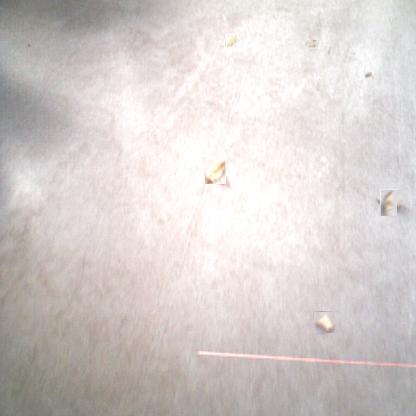dirty: (204, 159, 226, 184), (313, 311, 335, 333), (377, 192, 400, 213), (225, 34, 237, 47), (306, 39, 317, 49), (363, 71, 372, 79)
mark: (326, 45, 332, 56), (26, 40, 32, 48), (218, 43, 225, 49)
